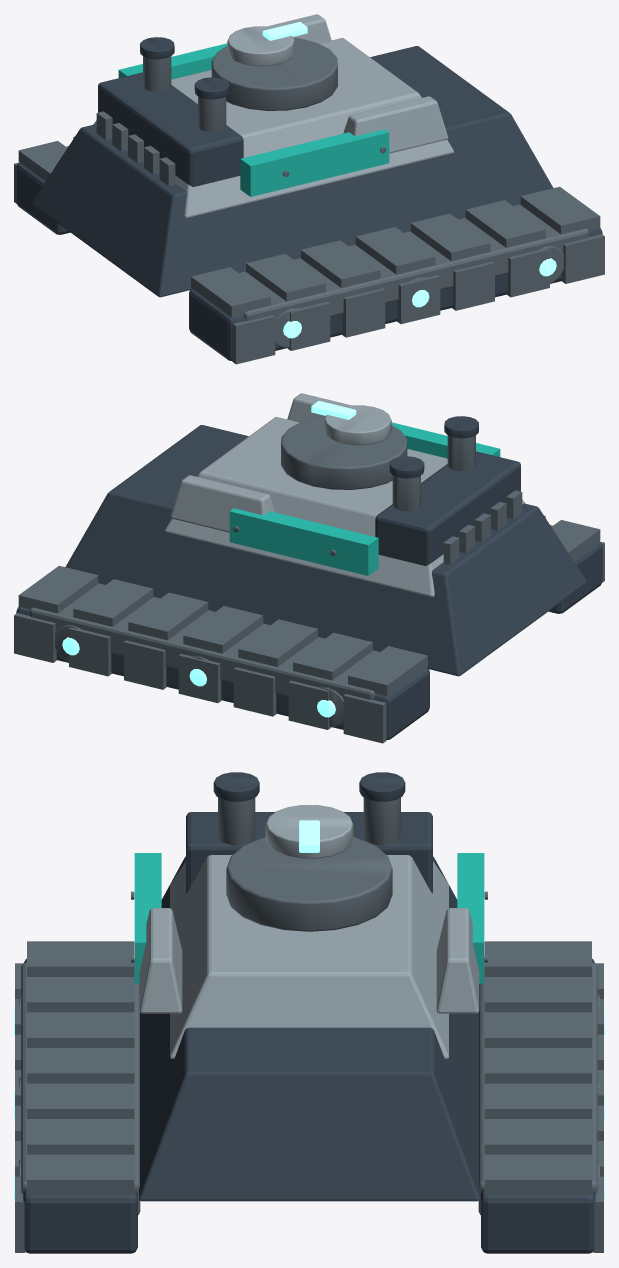
The model's file is SM_Anvil_Body.fbx.
3 views of the same model, one above another, from view 1: azimuth 30°, elevation 25°; view 2: azimuth 150°, elevation 25°; view 3: azimuth 270°, elevation 25° (orthographic). The views are drawn at different scales.
Parts seen in each view (by area): view 1: SM_Anvil_Body; view 2: SM_Anvil_Body; view 3: SM_Anvil_Body.
Part boxes in pixels (x1=…): SM_Anvil_Body: x1=14, y1=14, x2=604, y2=364; SM_Anvil_Body: x1=14, y1=393, x2=604, y2=743; SM_Anvil_Body: x1=14, y1=772, x2=604, y2=1253.
Bounding box in the file's own units: 62.1 × 59.69 × 32.02.
